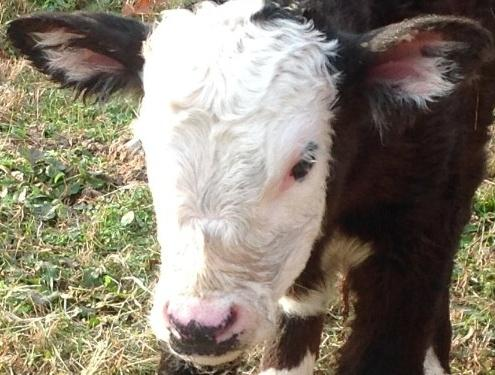muzzles: (142, 283, 274, 370)
